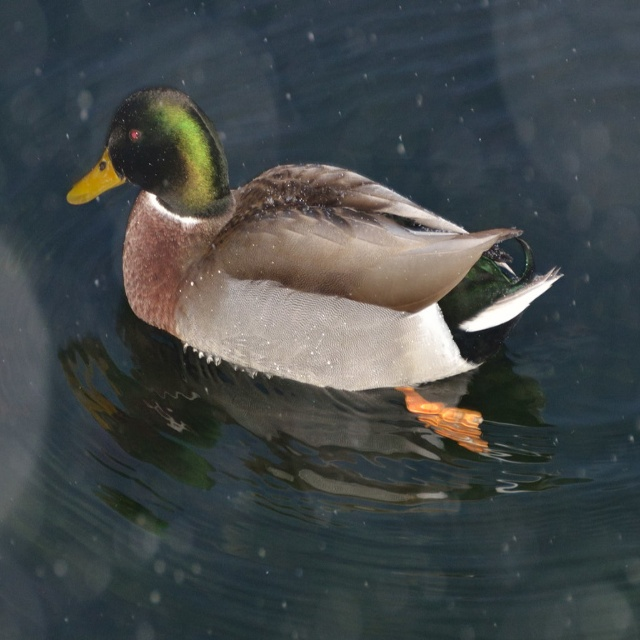Duck: (64, 89, 565, 458)
